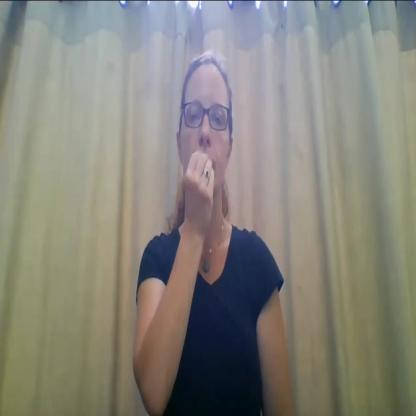Food: (175, 42, 256, 260)
